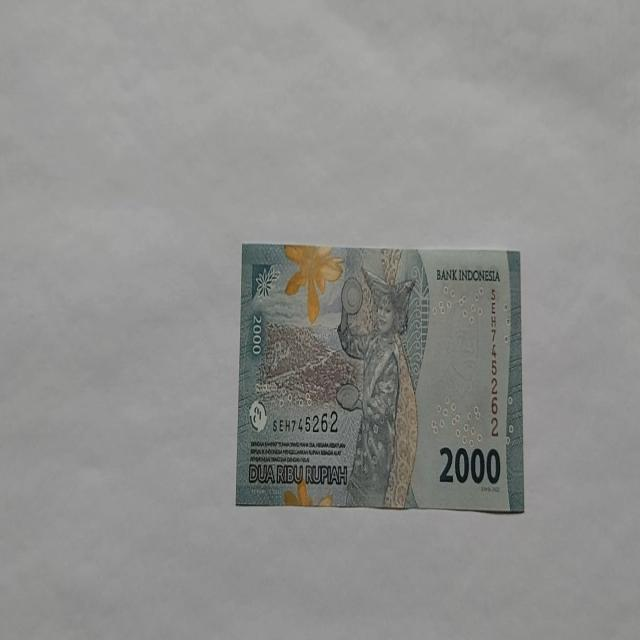dua ribu rupiah: (234, 243, 524, 513), (335, 266, 419, 508)
